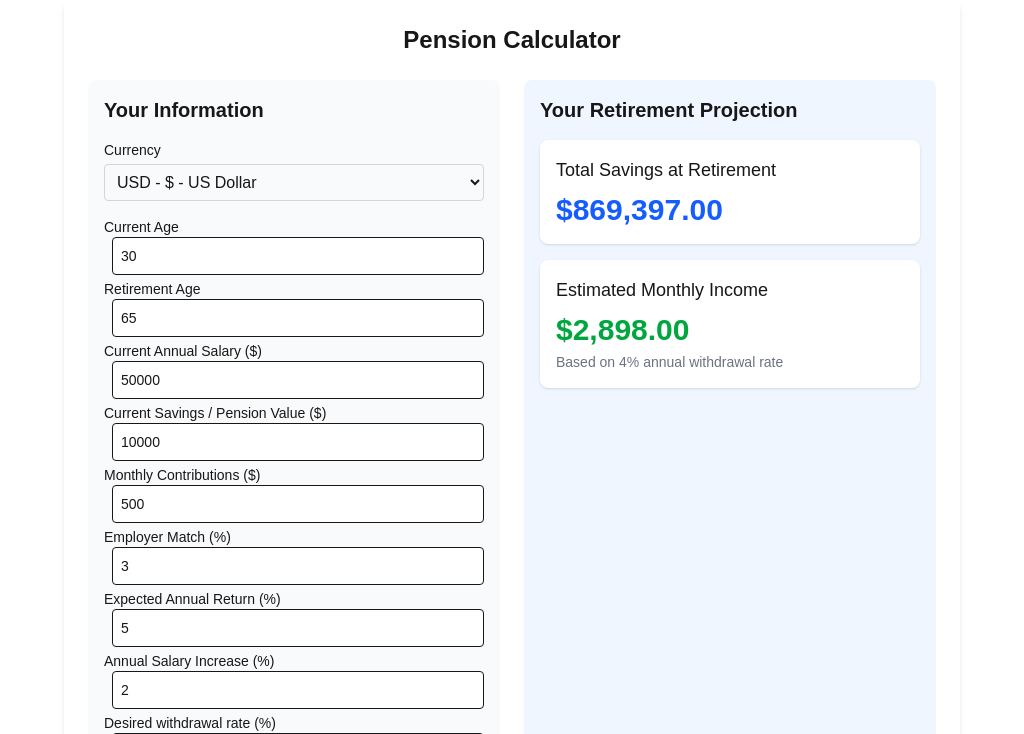
Test case: PensionCalculator › updates inputs and calculates pension
Replace the text in the number field labelled "Current Annual Salary ($)" with "60000" at point(298, 380), box [112,361,484,399]
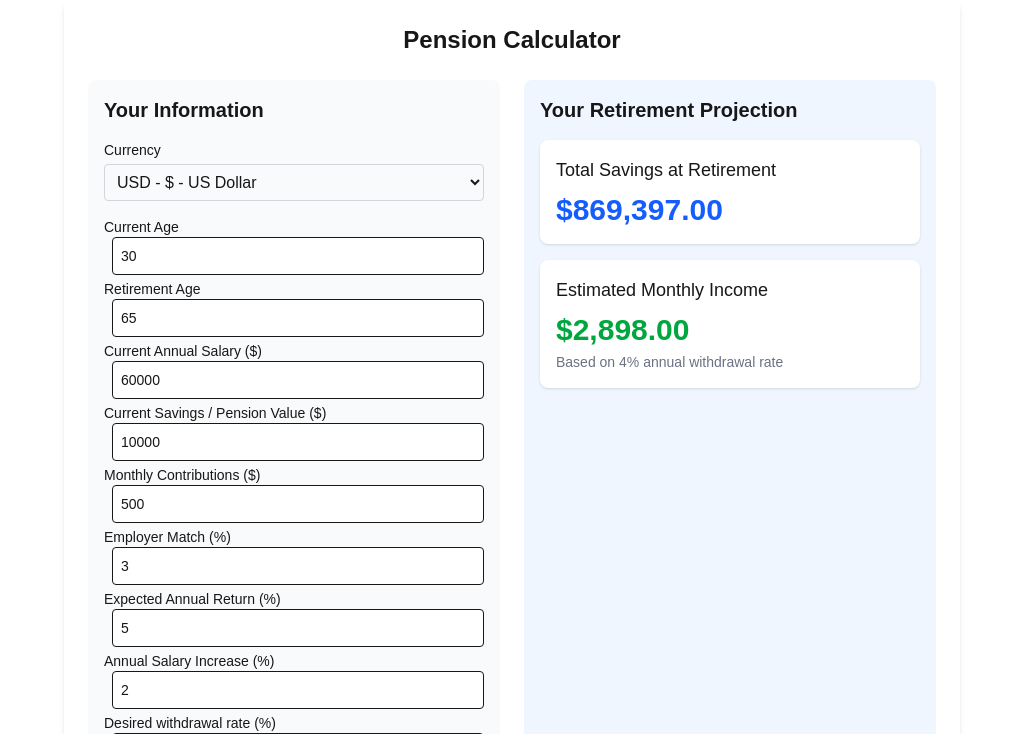
Replace the text in the number field labelled "Current Savings / Pension Value ($)" with "20000" at point(298, 442), box [112,423,484,461]
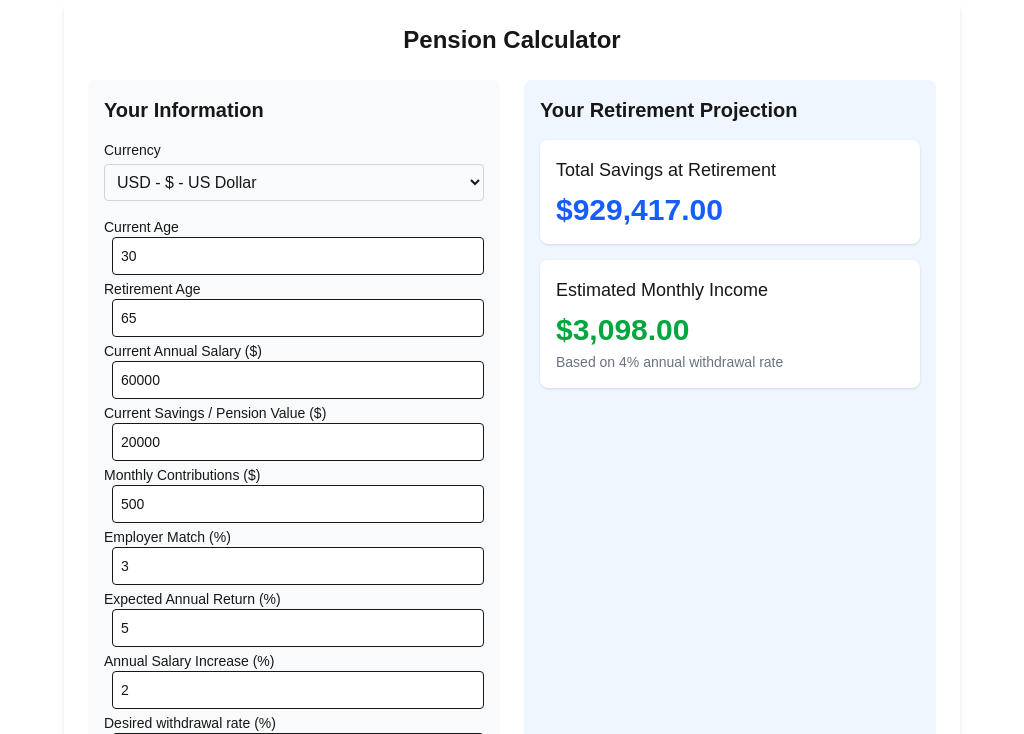
Expected: the text "$929,417.00" is shown, [556,193,723,226]
